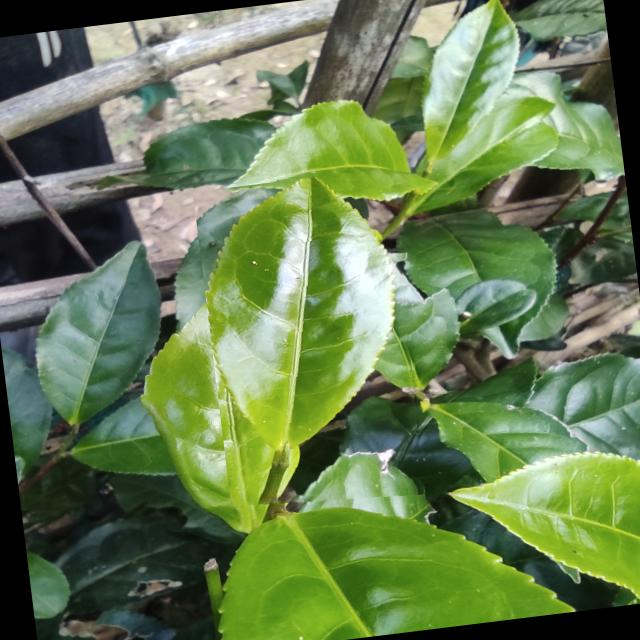Category B(2-4 days): (192, 167, 430, 517)
